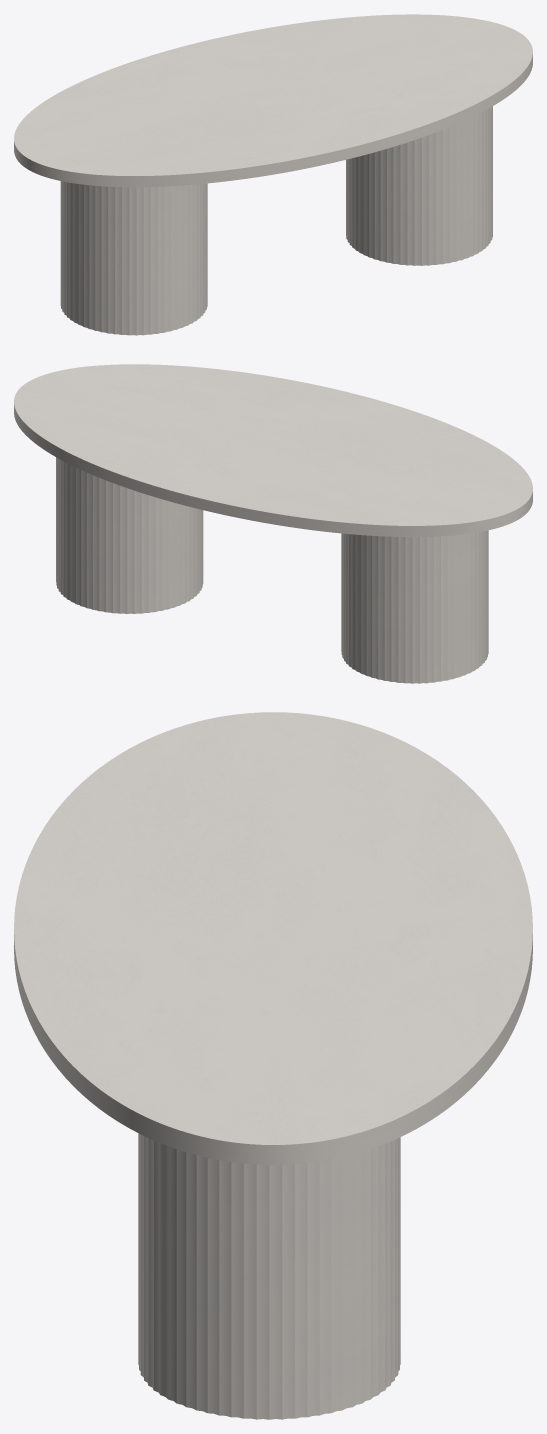
File: pearlwhite_ellips_standard_ripplesecond.glb
3 views of the same model, one above another, from view 1: azimuth 30°, elevation 25°; view 2: azimuth 150°, elevation 25°; view 3: azimuth 270°, elevation 25° (orthographic). The views are drawn at different scales.
Parts seen in each view (by area): view 1: standard_ellips, ripplesecond; view 2: standard_ellips, ripplesecond; view 3: standard_ellips, ripplesecond.
Part boxes in pixels (bbox=[...]): standard_ellips: bbox=[14, 14, 532, 187]; ripplesecond: bbox=[60, 106, 492, 335]; standard_ellips: bbox=[14, 364, 532, 536]; ripplesecond: bbox=[56, 457, 488, 683]; standard_ellips: bbox=[14, 712, 532, 1164]; ripplesecond: bbox=[138, 1133, 400, 1419].
Bounding box in the file's own units: 7.5 × 2.5 × 3.8.
Materials: 1 (1 with a texture image).
